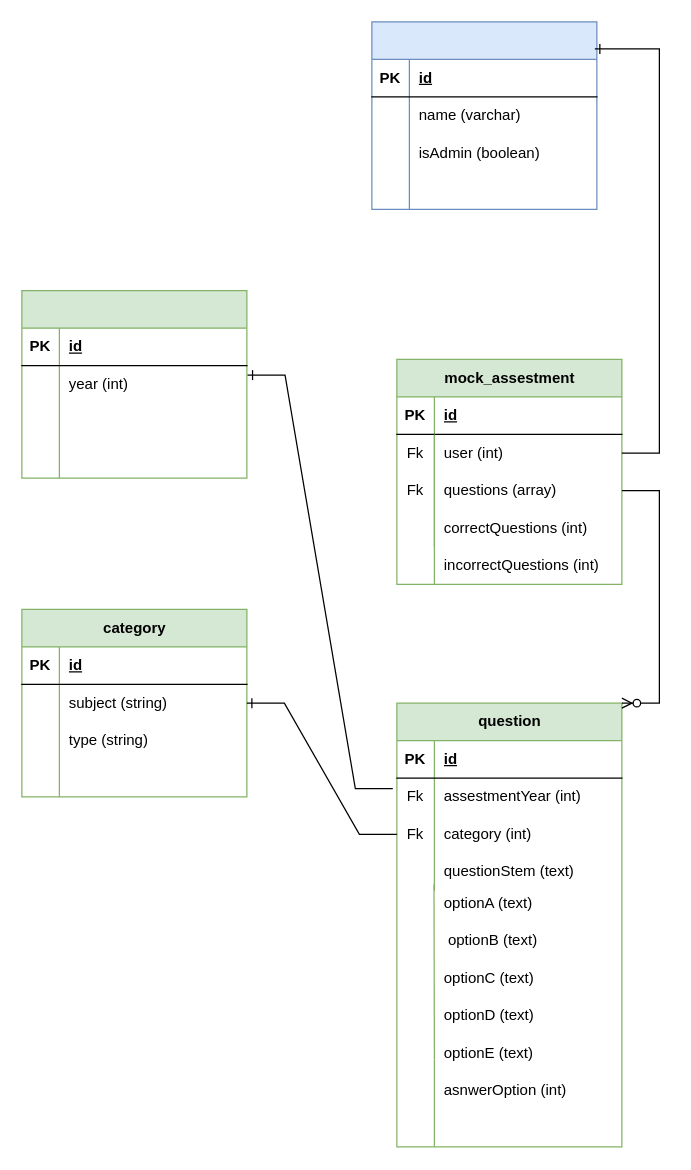
The diagram is 691 pixels wide and 1170 high, and some of its shapes have lost their labels. The box of each missing label's shape, as (x1, y1, x2, y2) in pixels:
assestment: (21, 289, 247, 478)
user: (371, 21, 597, 209)
